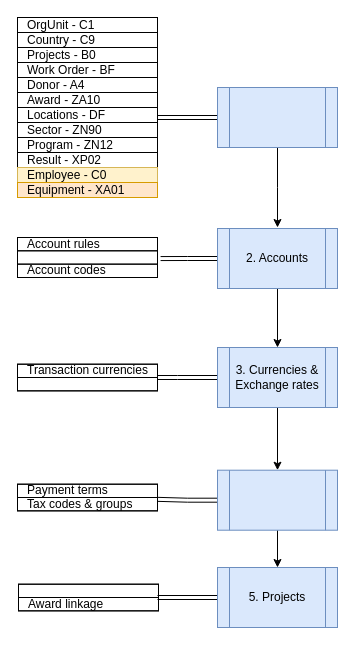
Image size: 355x645. Some labels were removed from this diagram. The box of each missing label's shape, as (x1, y1, x2, y2) in pixels:
1. FinDim: (216, 86, 338, 148)
4. Fin4U suppliers: (216, 469, 338, 530)
Account heads: (16, 250, 158, 264)
Projects: (18, 583, 158, 598)
Rates: (16, 376, 158, 391)
